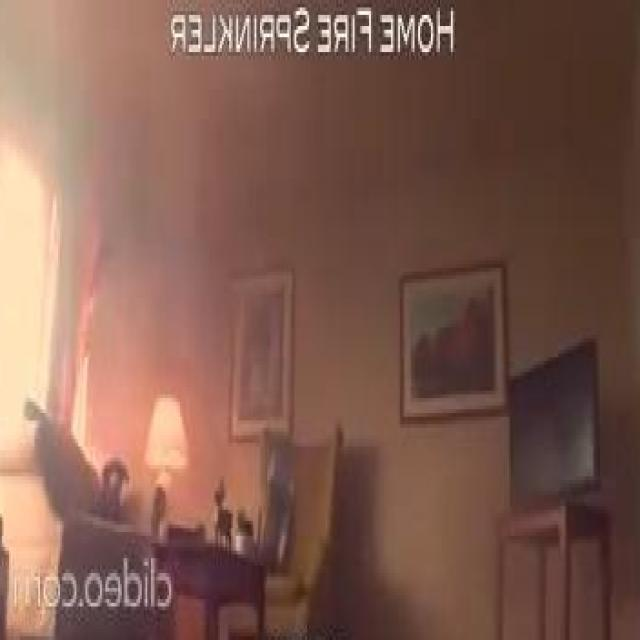smoke: (69, 231, 118, 476)
